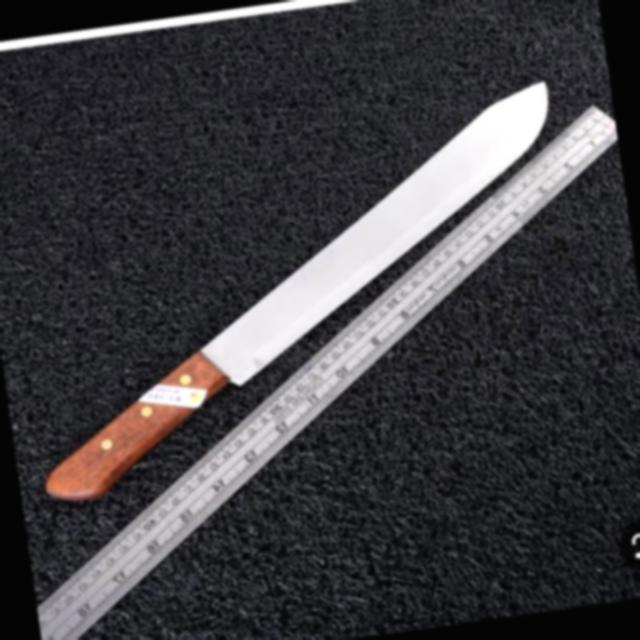knife: (0, 65, 614, 532)
